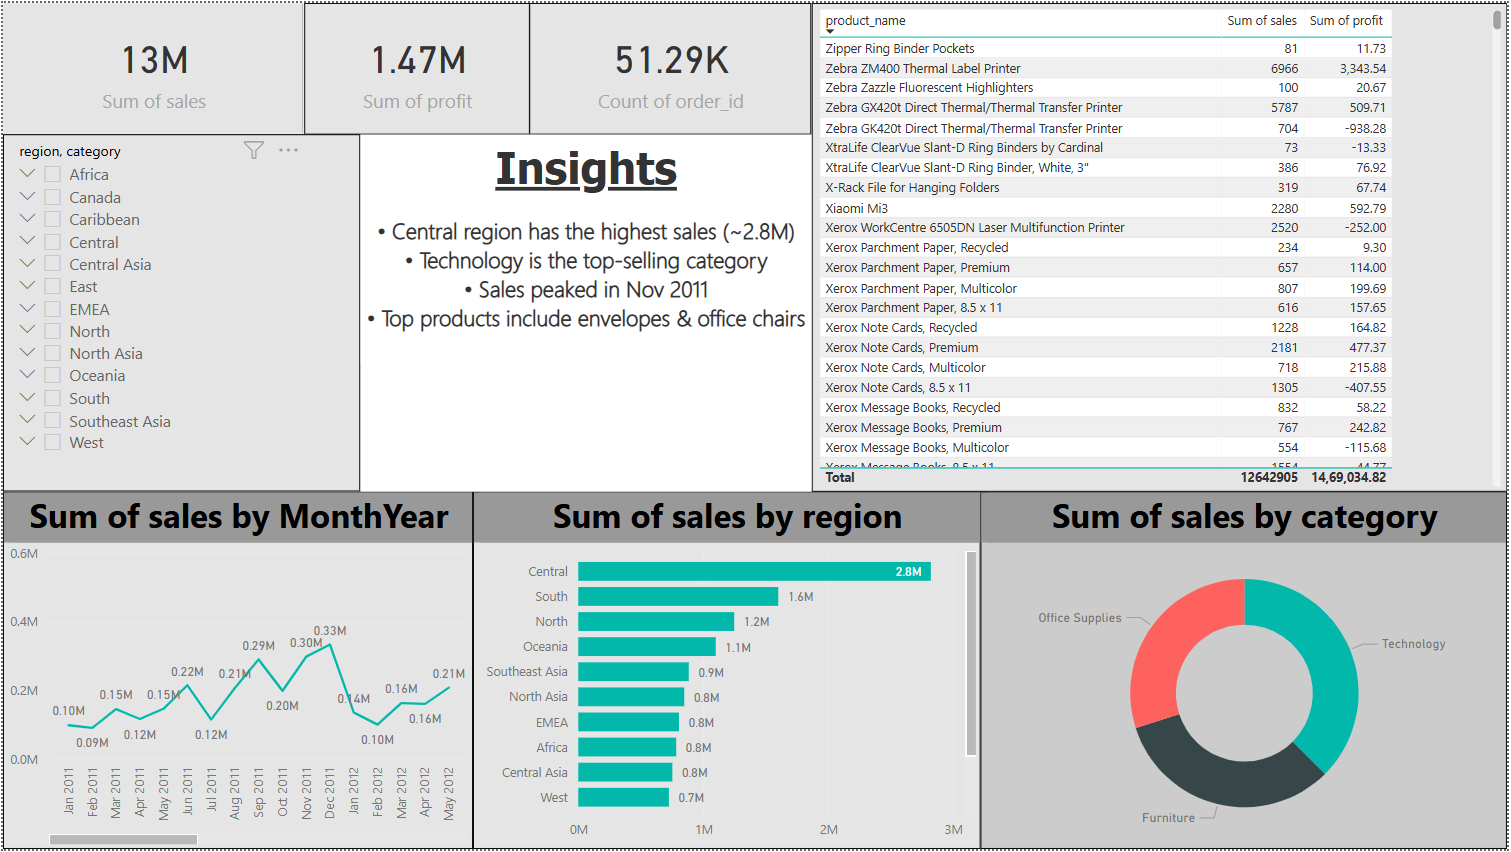

Layout of this report page (visuals, bound fields, positions):
{"tool":"powerbi","page":{"name":"Page 1","canvas":[1280,720],"ordinal":0},"visuals":[{"type":"lineChart","fields":{"Category":["superstore_sales.MonthYear"],"Y":["Sum(superstore_sales.sales)"]},"box":[0,416,400,304],"z":0},{"type":"clusteredBarChart","fields":{"Category":["superstore_sales.region"],"Y":["Sum(superstore_sales.sales)"]},"box":[400,416,432,304],"z":1000},{"type":"donutChart","fields":{"Category":["superstore_sales.category"],"Y":["Sum(superstore_sales.sales)"]},"box":[832,416,448,304],"z":2000},{"type":"card","fields":{"Values":["Sum(superstore_sales.sales)"]},"box":[0,0,256,112],"z":3000},{"type":"card","fields":{"Values":["Sum(superstore_sales.profit)"]},"box":[256,0,192,112],"z":4000},{"type":"card","fields":{"Values":["CountNonNull(superstore_sales.order_id)"]},"box":[448,0,240,112],"z":5000},{"type":"tableEx","fields":{"Values":["superstore_sales.product_name","Sum(superstore_sales.sales)","Sum(superstore_sales.profit)"]},"box":[688,0,592,416],"z":6000},{"type":"slicer","title":"sli","fields":{"Values":["superstore_sales.region","superstore_sales.category"]},"box":[0,112,304,304],"z":7000},{"type":"textbox","box":[304,112,384,304],"z":8000}]}

Visuals, with their boxes in screenshot pixels (x1, y1, x2, y2), scaled from the page's 1280x720 canvas onto the 1511x852 screenshot:
lineChart - superstore_sales.MonthYear x Sum(superstore_sales.sales): (x1=0, y1=492, x2=472, y2=851)
clusteredBarChart - superstore_sales.region x Sum(superstore_sales.sales): (x1=472, y1=492, x2=982, y2=851)
donutChart - superstore_sales.category x Sum(superstore_sales.sales): (x1=982, y1=492, x2=1510, y2=851)
card - Sum(superstore_sales.sales): (x1=0, y1=0, x2=302, y2=133)
card - Sum(superstore_sales.profit): (x1=302, y1=0, x2=529, y2=133)
card - CountNonNull(superstore_sales.order_id): (x1=529, y1=0, x2=812, y2=133)
tableEx - superstore_sales.product_name x Sum(superstore_sales.sales): (x1=812, y1=0, x2=1510, y2=492)
"sli" slicer: (x1=0, y1=133, x2=359, y2=492)
textbox: (x1=359, y1=133, x2=812, y2=492)
